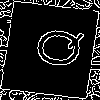Q: (25, 25, 85, 70)
